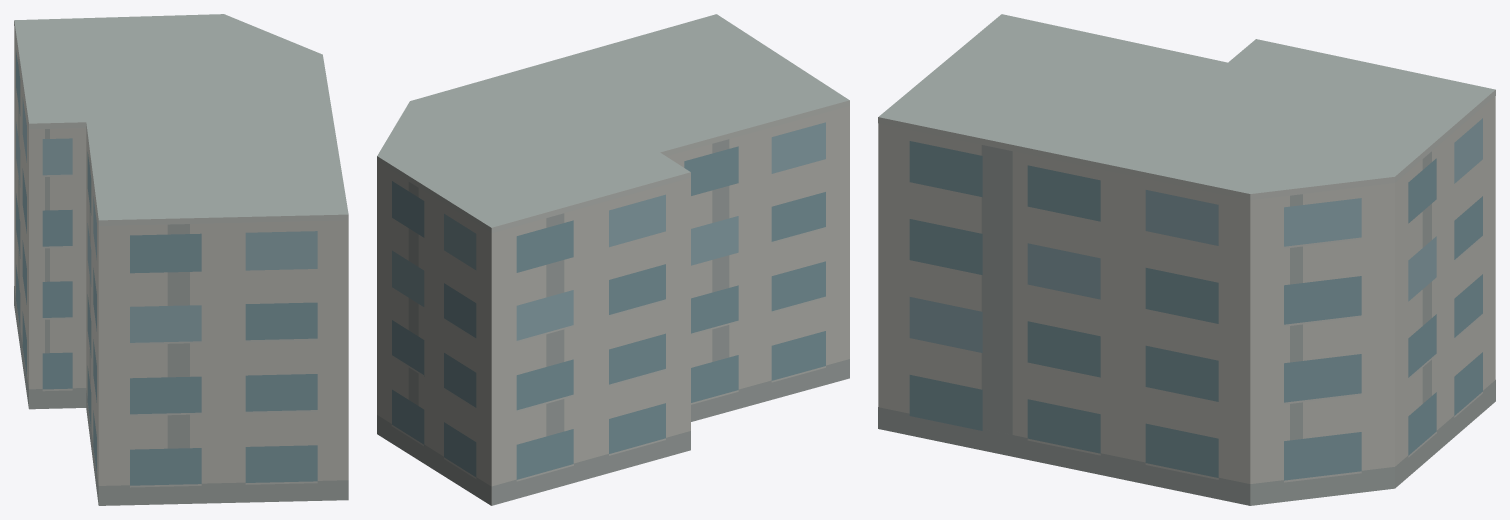
The model's file is residential-08945f09-b974-43cd-bcfe-7a9441874e8f.glb.
The picture shows the model from 3 angles, left to right: view 1: azimuth 30°, elevation 25°; view 2: azimuth 150°, elevation 25°; view 3: azimuth 270°, elevation 25°; orthographic projection. The views are drawn at different scales.
Parts seen in each view (by area): view 1: residential-08945f09-b974-43cd-bcfe-7a9441874e8f.tmp; view 2: residential-08945f09-b974-43cd-bcfe-7a9441874e8f.tmp; view 3: residential-08945f09-b974-43cd-bcfe-7a9441874e8f.tmp.
Part boxes in pixels (bbox=[...]): residential-08945f09-b974-43cd-bcfe-7a9441874e8f.tmp: bbox=[14, 14, 348, 505]; residential-08945f09-b974-43cd-bcfe-7a9441874e8f.tmp: bbox=[377, 14, 849, 505]; residential-08945f09-b974-43cd-bcfe-7a9441874e8f.tmp: bbox=[878, 14, 1495, 505].
Size of the model in its own units: 14.87 by 12 by 21.55.
